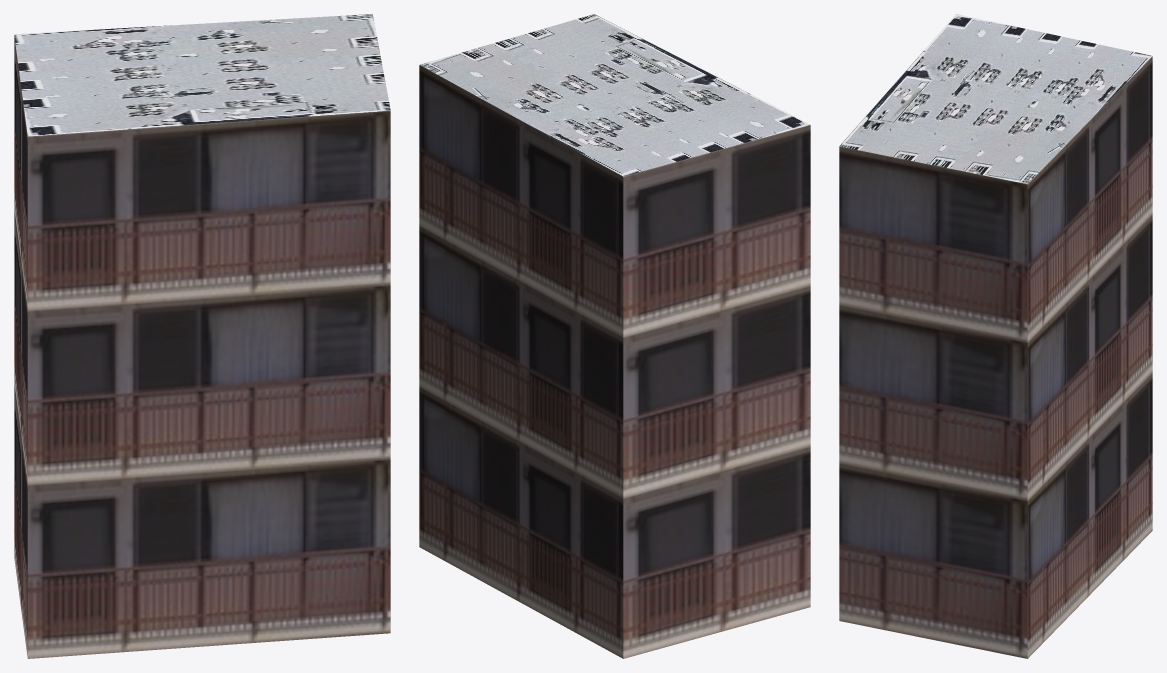
File: ResTex__4918.fbx
3 views of the same model, side by side, from view 1: azimuth 30°, elevation 25°; view 2: azimuth 150°, elevation 25°; view 3: azimuth 270°, elevation 25° (orthographic). The views are drawn at different scales.
Visible parts, largest first — view 1: CityEngineMaterial_6_m, CityEngineMaterial_8_m; view 2: CityEngineMaterial_6_m, CityEngineMaterial_8_m; view 3: CityEngineMaterial_6_m, CityEngineMaterial_8_m.
Part boxes in pixels (x1,y1,x2,y2): CityEngineMaterial_6_m: (14,37,390,658); CityEngineMaterial_8_m: (14,14,390,136); CityEngineMaterial_6_m: (419,65,810,658); CityEngineMaterial_8_m: (419,14,810,176); CityEngineMaterial_6_m: (839,56,1152,658); CityEngineMaterial_8_m: (839,14,1152,184).
Bounding box in the file's own units: 6.93 × 9 × 5.39.
Materials: 2 (2 with a texture image).
